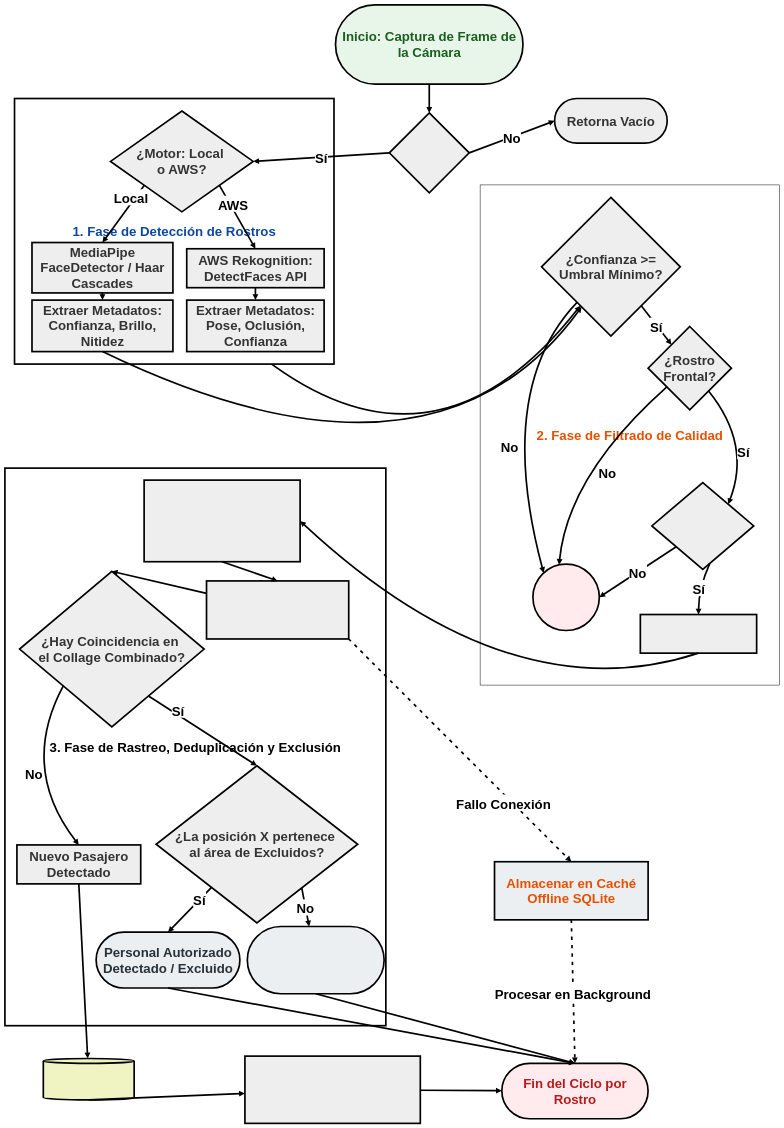
The diagram is 784 pixels wide and 1128 high, and some of its shapes have lost their labels. Here are the shapes that lost their labels. From the top down, the centre of each, then its label:
the point at 429,153: ¿Frame Válido?
the point at 222,520: Construir Collage Combinado: Excluidos + Pasajeros Anteriores
the point at 702,526: ¿Sin Oclusión?
the point at 277,610: AWS Rekognition: CompareFaces vs Collage
the point at 566,597: Descartar Rostro
the point at 698,634: Rostro Válido Detectado
the point at 315,960: Pasajero Duplicado Detectado / No Contar
the point at 88,1079: +1 Conteo de Pasajeros
the point at 332,1089: Añadir Rostro al Collage de Pasajeros e Iniciar TTL
